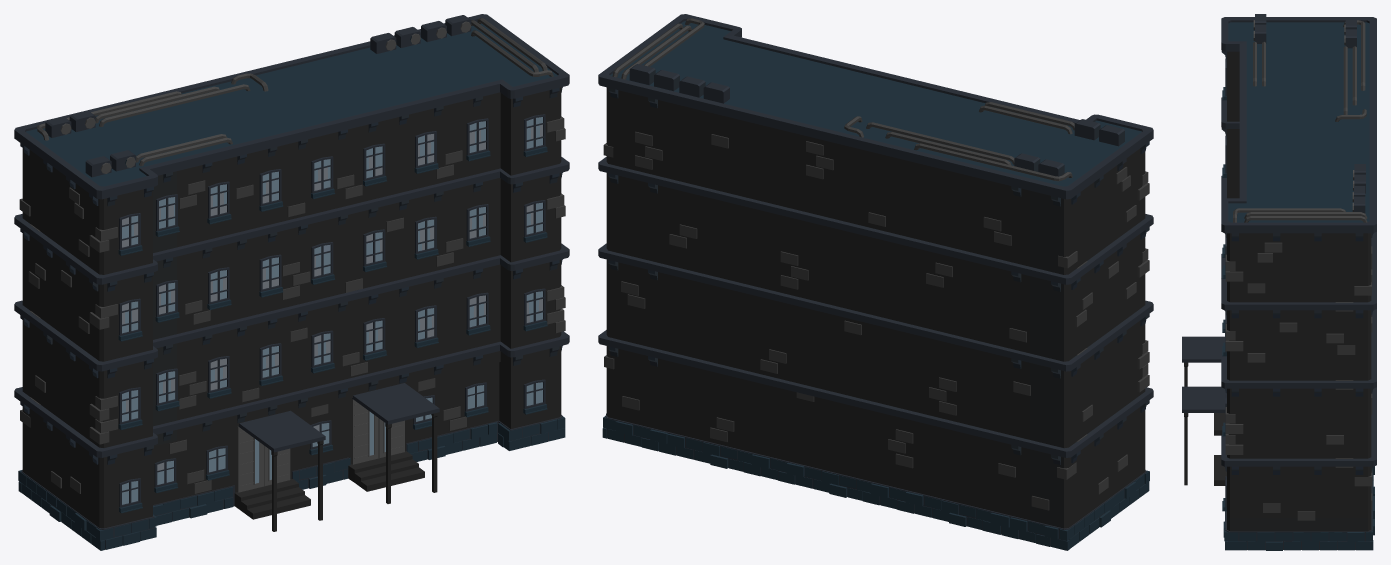
File: 4Story Wide 2Doors.glb
The picture shows the model from 3 angles, left to right: view 1: azimuth 30°, elevation 25°; view 2: azimuth 150°, elevation 25°; view 3: azimuth 270°, elevation 25°; orthographic projection. The views are drawn at different scales.
Parts seen in each view (by area): view 1: 4Story_Wide_2Doors; view 2: 4Story_Wide_2Doors; view 3: 4Story_Wide_2Doors.
Part boxes in pixels (x1,y1,x2,y2): 4Story_Wide_2Doors: (14,14,569,550); 4Story_Wide_2Doors: (598,14,1153,550); 4Story_Wide_2Doors: (1182,14,1376,550).
Bounding box in the file's own units: 16.39 × 12.36 × 6.47.
Materials: 1 (1 with a texture image).
